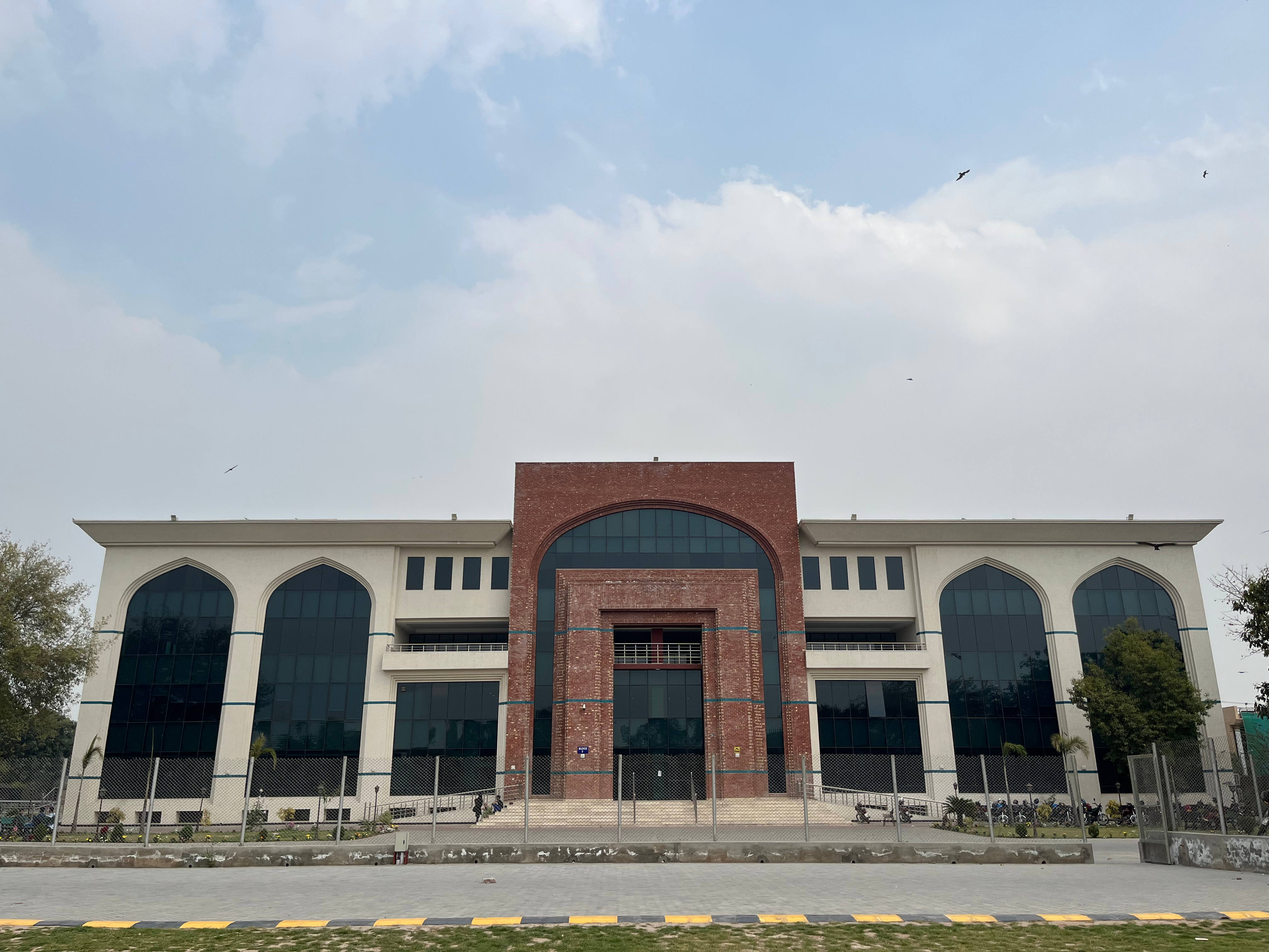Block F: (58, 444, 1250, 827)
